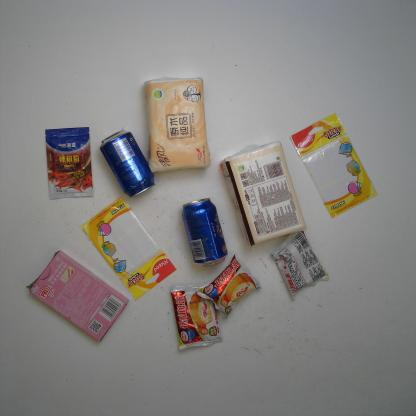Dessert: (24, 250, 137, 346), (272, 227, 328, 296), (198, 253, 258, 317), (168, 282, 222, 350)
Drink: (181, 191, 229, 266), (101, 128, 152, 196)
Seasoner: (38, 124, 96, 204)
Stationery: (290, 112, 377, 221), (83, 199, 176, 294)
Tissue: (219, 142, 307, 247), (145, 74, 211, 175)
